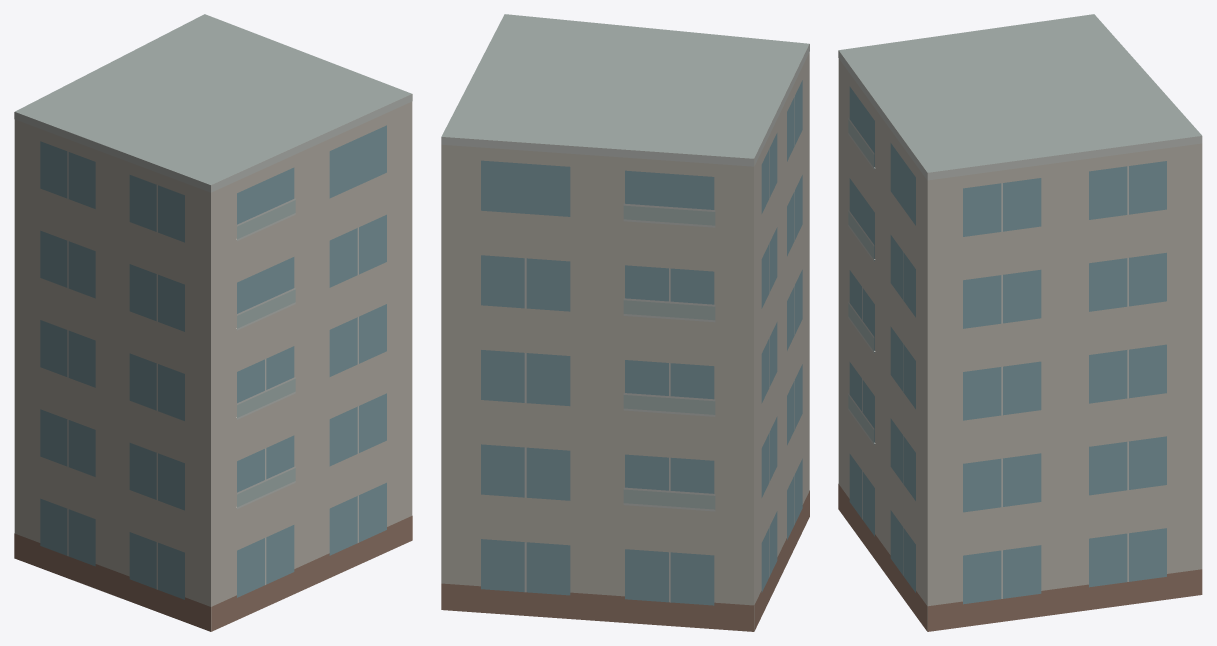
Rendered from survey-upis-32994927.glb.
3 renders of one model, left to right at view 1: azimuth 30°, elevation 25°; view 2: azimuth 150°, elevation 25°; view 3: azimuth 270°, elevation 25°, orthographic. The views are drawn at different scales.
Visible parts, largest first — view 1: survey-upis-32994927.tmp; view 2: survey-upis-32994927.tmp; view 3: survey-upis-32994927.tmp.
Boxes of the visible parts, x1,y1,x2,y2 form: survey-upis-32994927.tmp: (14,14,412,631); survey-upis-32994927.tmp: (441,14,809,631); survey-upis-32994927.tmp: (838,14,1202,631).
Size of the model in its own units: 10.85 by 14.6 by 10.5.
